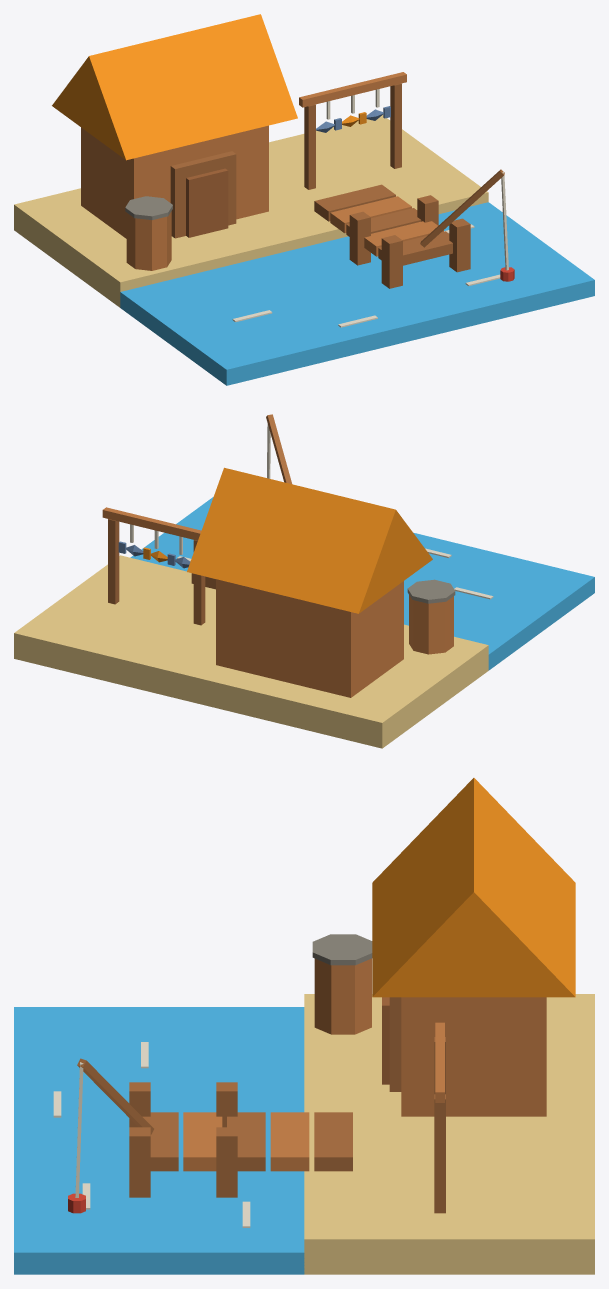
File: fishery_t1_v1.glb
3 renders of one model, top to bottom at view 1: azimuth 30°, elevation 25°; view 2: azimuth 150°, elevation 25°; view 3: azimuth 270°, elevation 25°, orthographic. The views are drawn at different scales.
Visible parts, largest first — view 1: fishery_t1_v1; view 2: fishery_t1_v1; view 3: fishery_t1_v1.
Part boxes in pixels (<box>): fishery_t1_v1: <box>14,14,594,385</box>; fishery_t1_v1: <box>14,414,594,748</box>; fishery_t1_v1: <box>14,778,594,1274</box>.
Bounding box in the file's own units: 0.6 × 0.31 × 0.6.
Materials: 1 (1 with a texture image).
